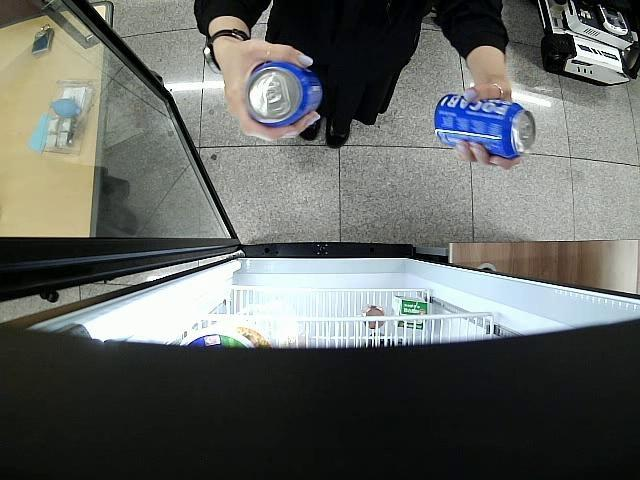13_pocariSweat: (432, 91, 538, 160), (244, 60, 323, 129)
